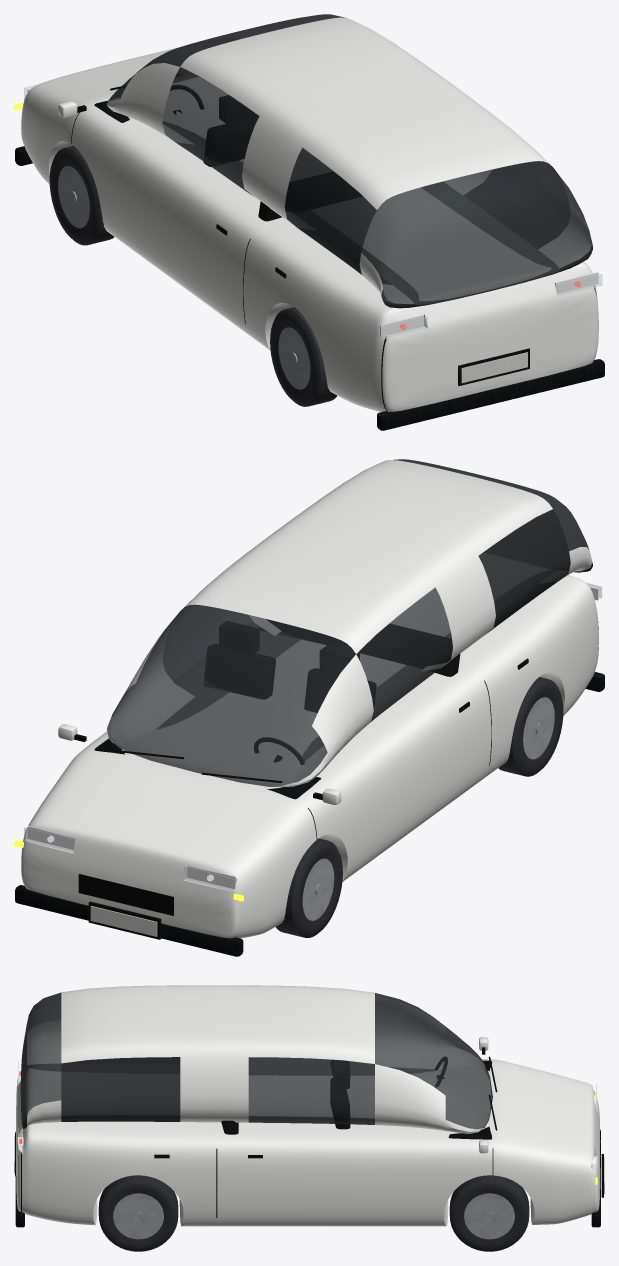
File: minivan_white.gltf
The picture shows the model from 3 angles, top to bottom: view 1: azimuth 30°, elevation 25°; view 2: azimuth 150°, elevation 25°; view 3: azimuth 270°, elevation 25°; orthographic projection. The views are drawn at different scales.
Parts seen in each view (by area): view 1: minivan_white; view 2: minivan_white; view 3: minivan_white.
Boxes of the visible parts, x1,y1,x2,y2 form: minivan_white: (14,14,604,430); minivan_white: (14,459,604,956); minivan_white: (14,985,604,1251).
Bounding box in the file's own units: 2.2 × 1.82 × 5.05.
Materials: 17 (8 with a texture image).
